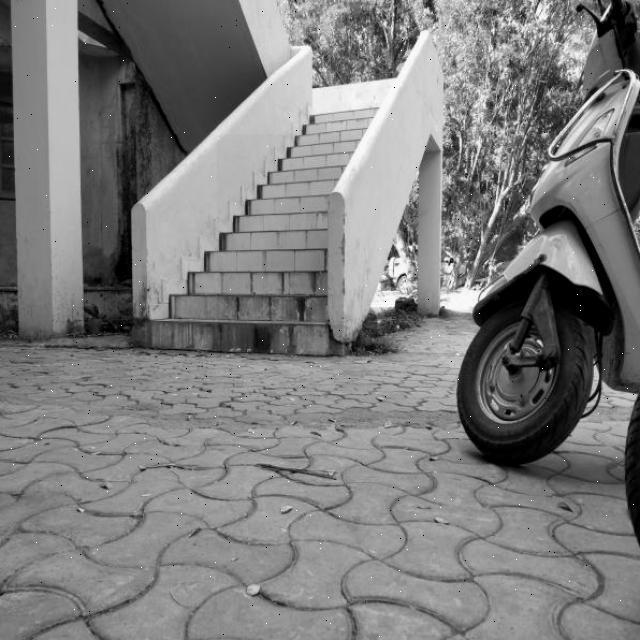stair: (217, 134, 341, 349)
